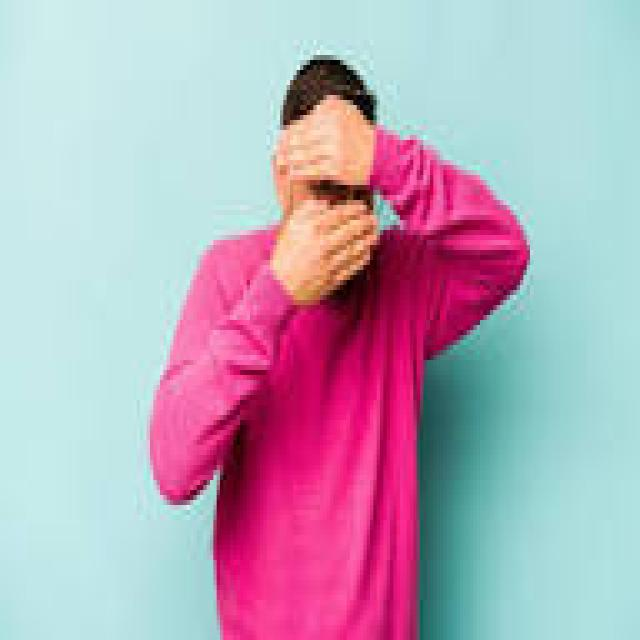7_mano_rostro: (247, 95, 376, 326)
